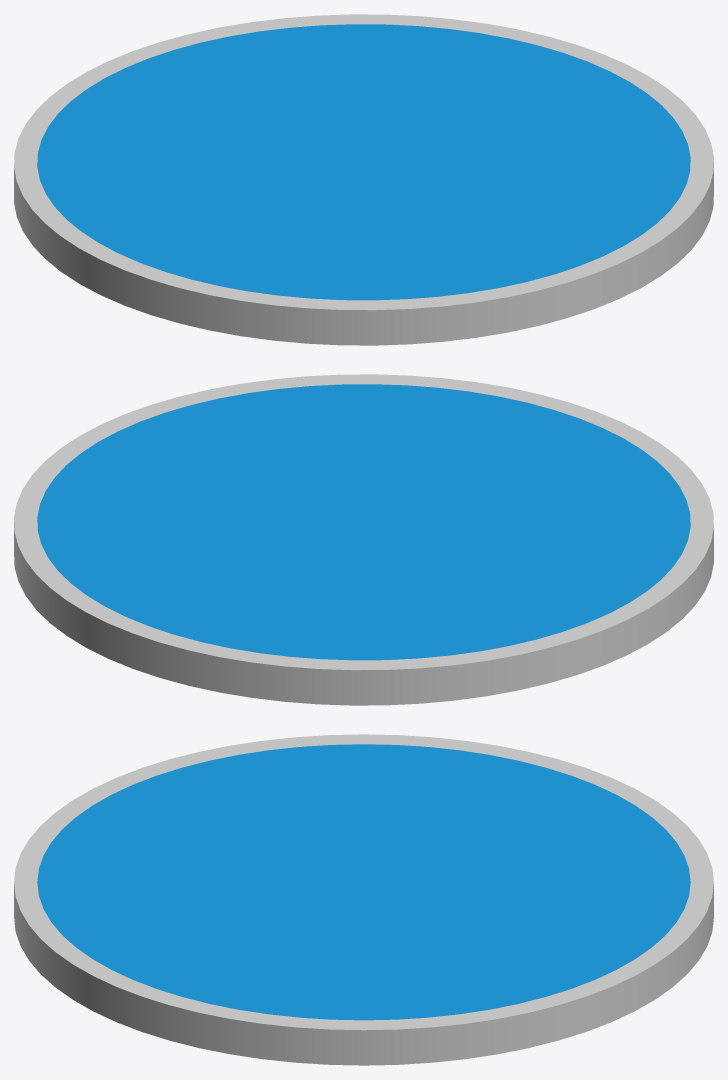
Rendered from Platform2.fbx.
3 views of the same model, one above another, from view 1: azimuth 30°, elevation 25°; view 2: azimuth 150°, elevation 25°; view 3: azimuth 270°, elevation 25° (orthographic).
Visible parts, largest first — view 1: Cylinder; view 2: Cylinder; view 3: Cylinder.
Boxes of the visible parts, x1=… form: Cylinder: x1=14, y1=14, x2=713, y2=345; Cylinder: x1=14, y1=374, x2=713, y2=705; Cylinder: x1=14, y1=734, x2=713, y2=1065.
Size of the model in its own units: 1190 by 66.33 by 1190.
